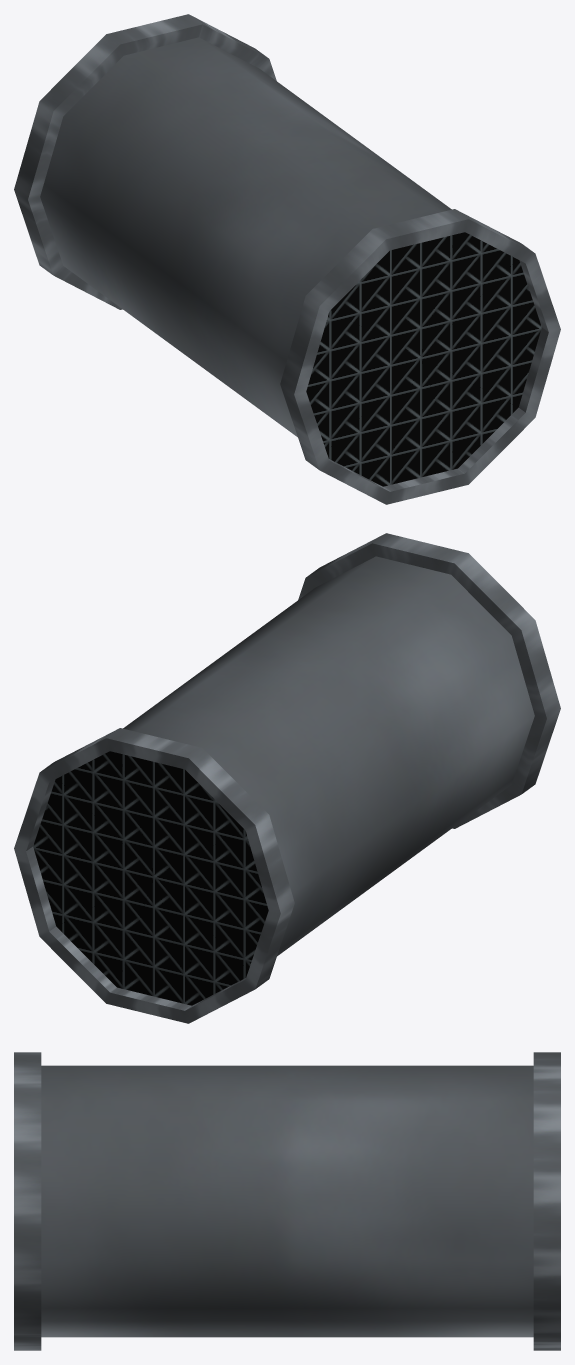
The model's file is P_Pipe1.FBX.
The picture shows the model from 3 angles, top to bottom: view 1: azimuth 30°, elevation 25°; view 2: azimuth 150°, elevation 25°; view 3: azimuth 270°, elevation 25°; orthographic projection. The views are drawn at different scales.
Parts seen in each view (by area): view 1: Cylinder001; view 2: Cylinder001; view 3: Cylinder001.
Part boxes in pixels (x1,y1,x2,y2): Cylinder001: (14, 14, 560, 504); Cylinder001: (14, 533, 560, 1023); Cylinder001: (14, 1052, 560, 1350).
Bounding box in the file's own units: 110 × 105 × 200.
2 materials, 2 textured.
